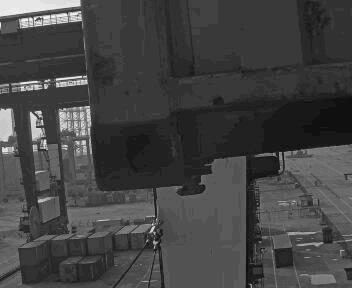twist_lock_1: (190, 164, 249, 203)
